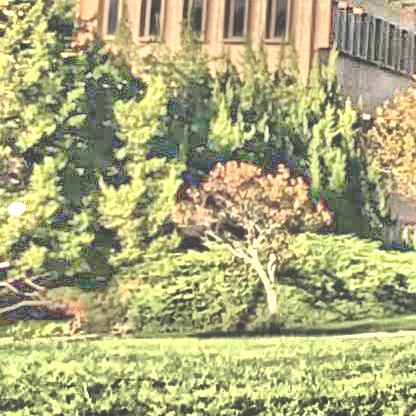golfball: (4, 199, 23, 214)
